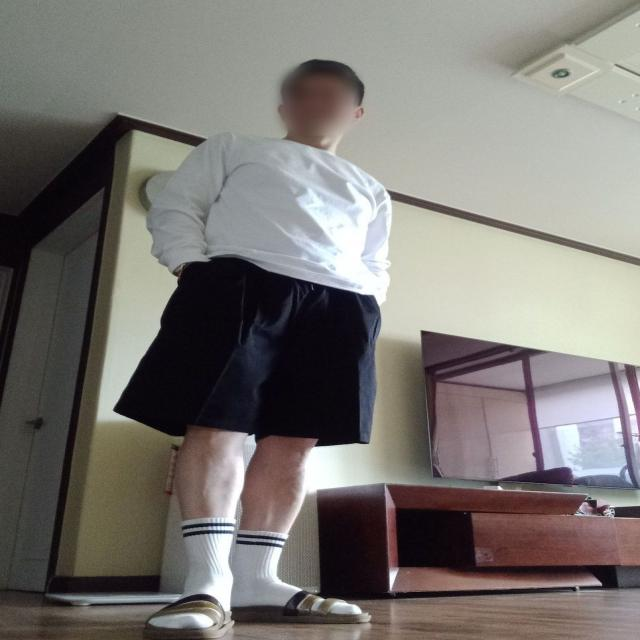longsleeve: (151, 128, 395, 308)
shortpants: (113, 258, 383, 448)
